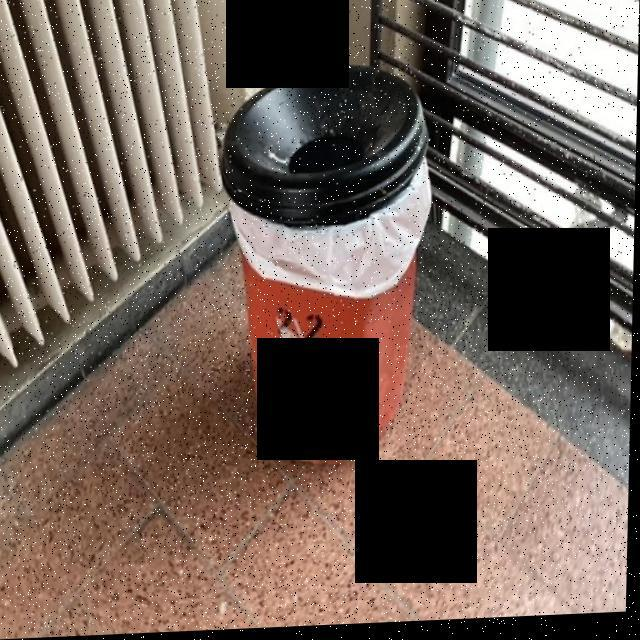bin: (198, 14, 448, 497)
